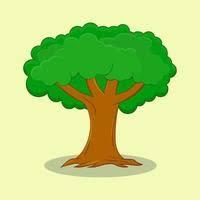tree: (23, 23, 179, 171)
